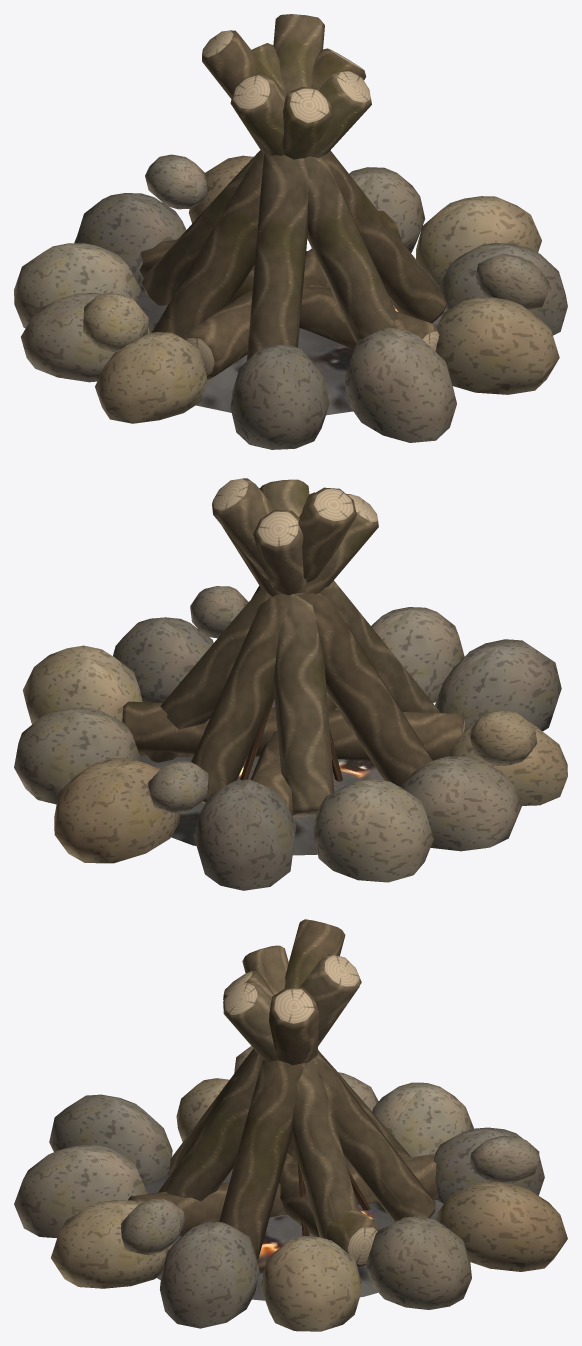
Rendered from campfire.glb.
3 views of the same model, one above another, from view 1: azimuth 30°, elevation 25°; view 2: azimuth 150°, elevation 25°; view 3: azimuth 270°, elevation 25° (orthographic). The views are drawn at different scales.
Parts seen in each view (by area): view 1: campfire; view 2: campfire; view 3: campfire.
Part boxes in pixels (x1=…): campfire: x1=14, y1=14, x2=567, y2=449; campfire: x1=14, y1=478, x2=567, y2=890; campfire: x1=14, y1=919, x2=567, y2=1331.
Bounding box in the file's own units: 1.54 × 0.9245 × 1.6.
3 materials, 3 textured.
